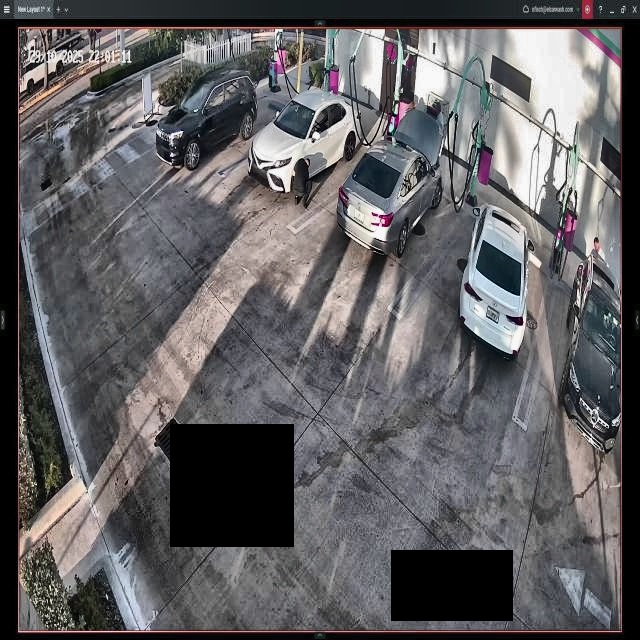Car: (342, 112, 442, 262), (251, 88, 361, 194), (459, 202, 528, 354), (156, 72, 258, 168)
